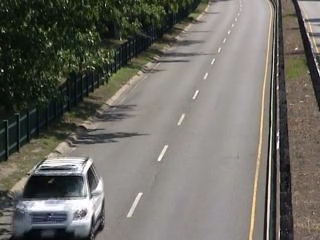car: (6, 155, 108, 240)
